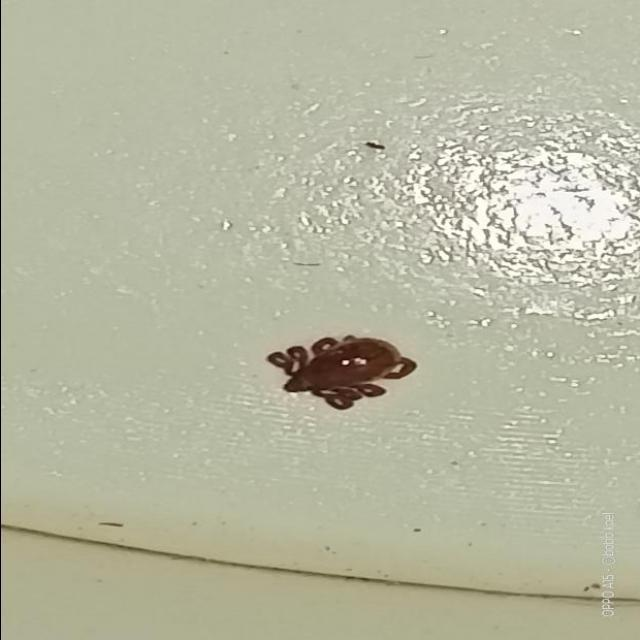Rhipicephalus Sanguineus-M: (267, 333, 419, 410)
